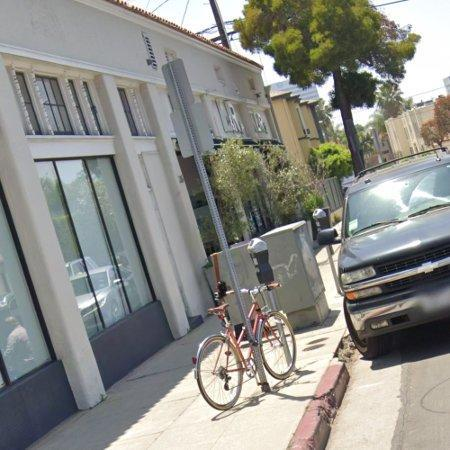bicycles: (196, 336, 243, 411)
